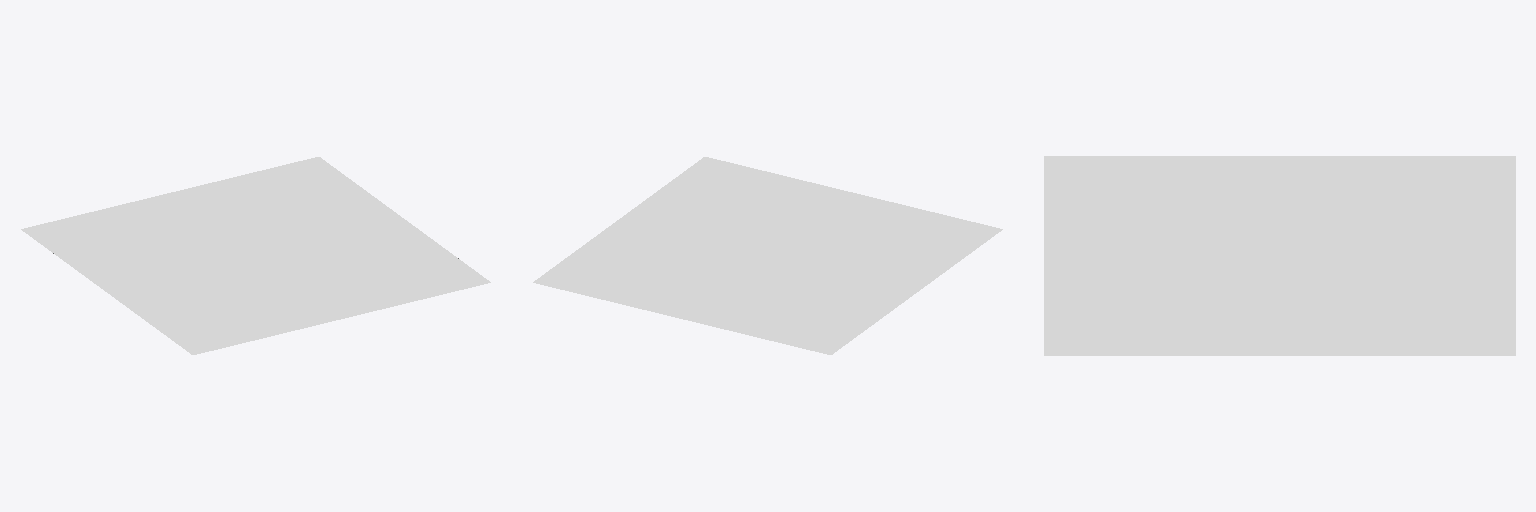
URDF robot description (floor):
<?xml version="1.0"?>
<robot name="floor">
    <material name="grey">
        <color rgba="0.95 0.95 0.95 1.0"/>
    </material>

    <link name="base">
        <contact>
            <lateral_friction value="1"/>
        </contact>
        <inertial>
            <origin rpy="0 0 0" xyz="0 0 0"/>
            <mass value=".0"/>
            <inertia ixx="0" ixy="0" ixz="0" iyy="0" iyz="0" izz="0"/>
        </inertial>
        <visual>
            <origin rpy="0 0 0" xyz="0 0 0"/>
            <geometry>
                <box size="200 200 0.001"/>
            </geometry>
            <material name="grey"/>
        </visual>
        <collision>
            <origin rpy="0 0 0" xyz="0 0 -1"/>
            <geometry>
                <box size="200 200 1"/>
            </geometry>
        </collision>
    </link>

</robot>

--- What the picture shows (computed from the rendered views, not written in the file) ---
3 views of the same robot in one strip: view 1: azimuth 30°, elevation 25°; view 2: azimuth 150°, elevation 25°; view 3: azimuth 270°, elevation 25° (orthographic).
Robot: floor — 1 links, 0 joints (none); root link base; default pose: every joint at zero.
Visible links, largest first — view 1: base; view 2: base; view 3: base.
Boxes of the visible links, left/top/right/bottom form: base: left=21, top=157, right=490, bottom=354; base: left=533, top=157, right=1002, bottom=354; base: left=1044, top=156, right=1515, bottom=355.
Size in the robot's own frame: 200 by 200 by 0.001 metres.
Geometry: primitives only (box / cylinder / sphere), no mesh files.
